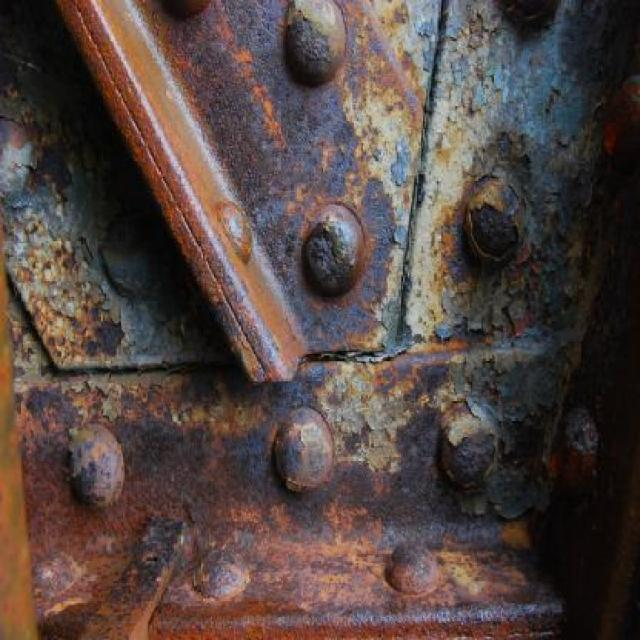corrosion: (0, 29, 428, 638)
